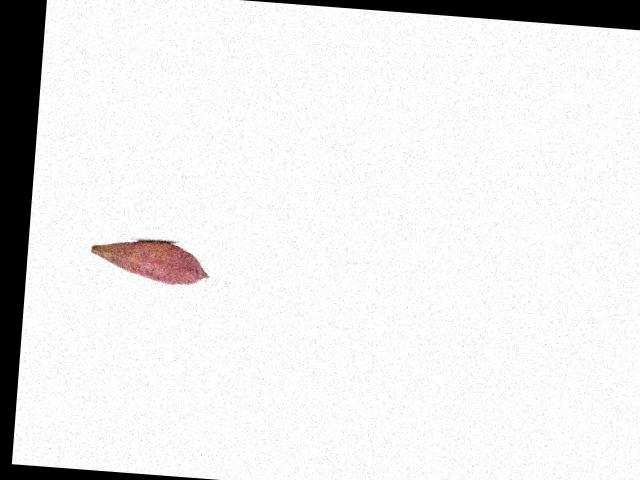sweet_potato: (89, 238, 211, 287)
